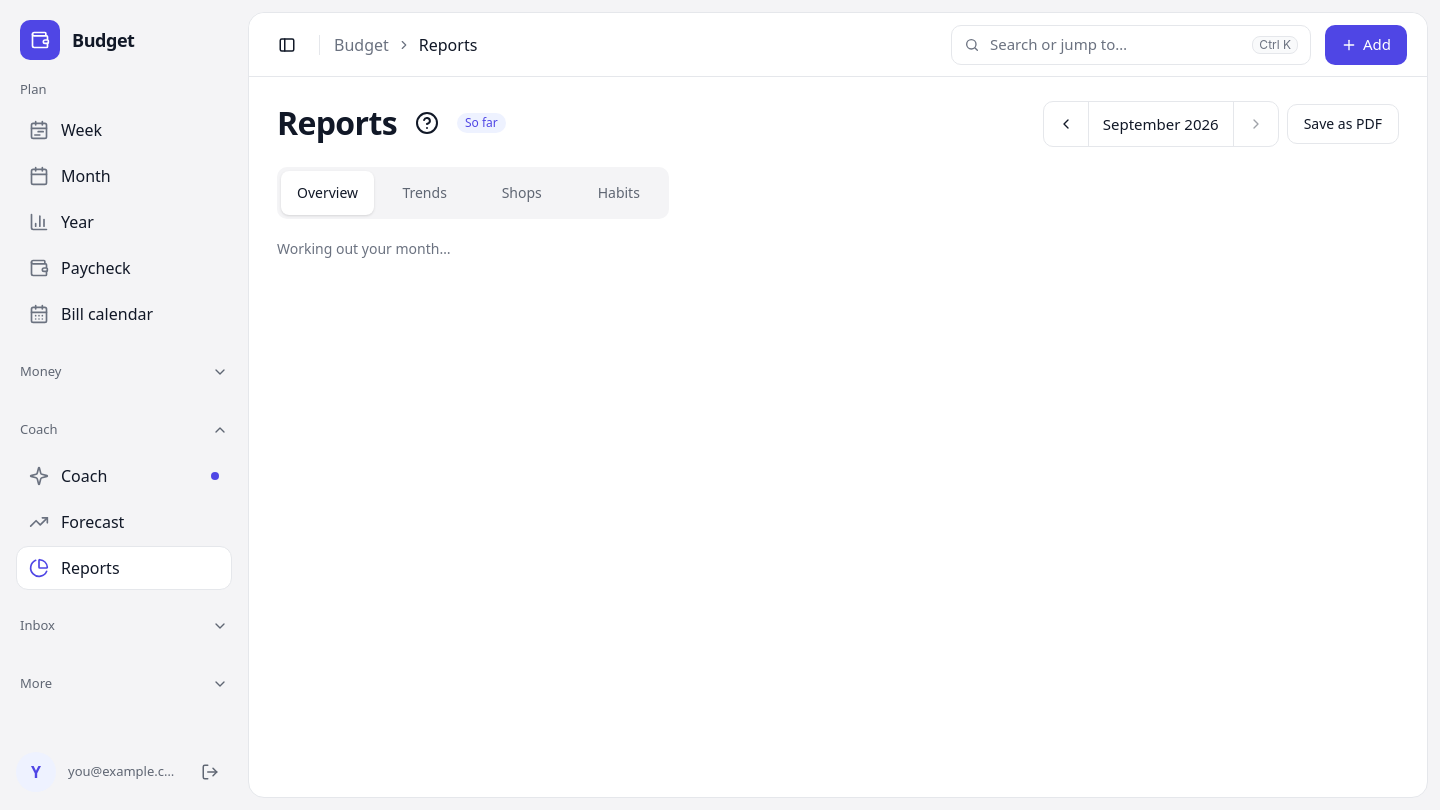
Test case: Reports, Shops: worth a second look › points out each flagged charge, and hides none
Step 1. Click the tab "Shops" → (522, 193), box [475,171,568,215]
(page scrolled)
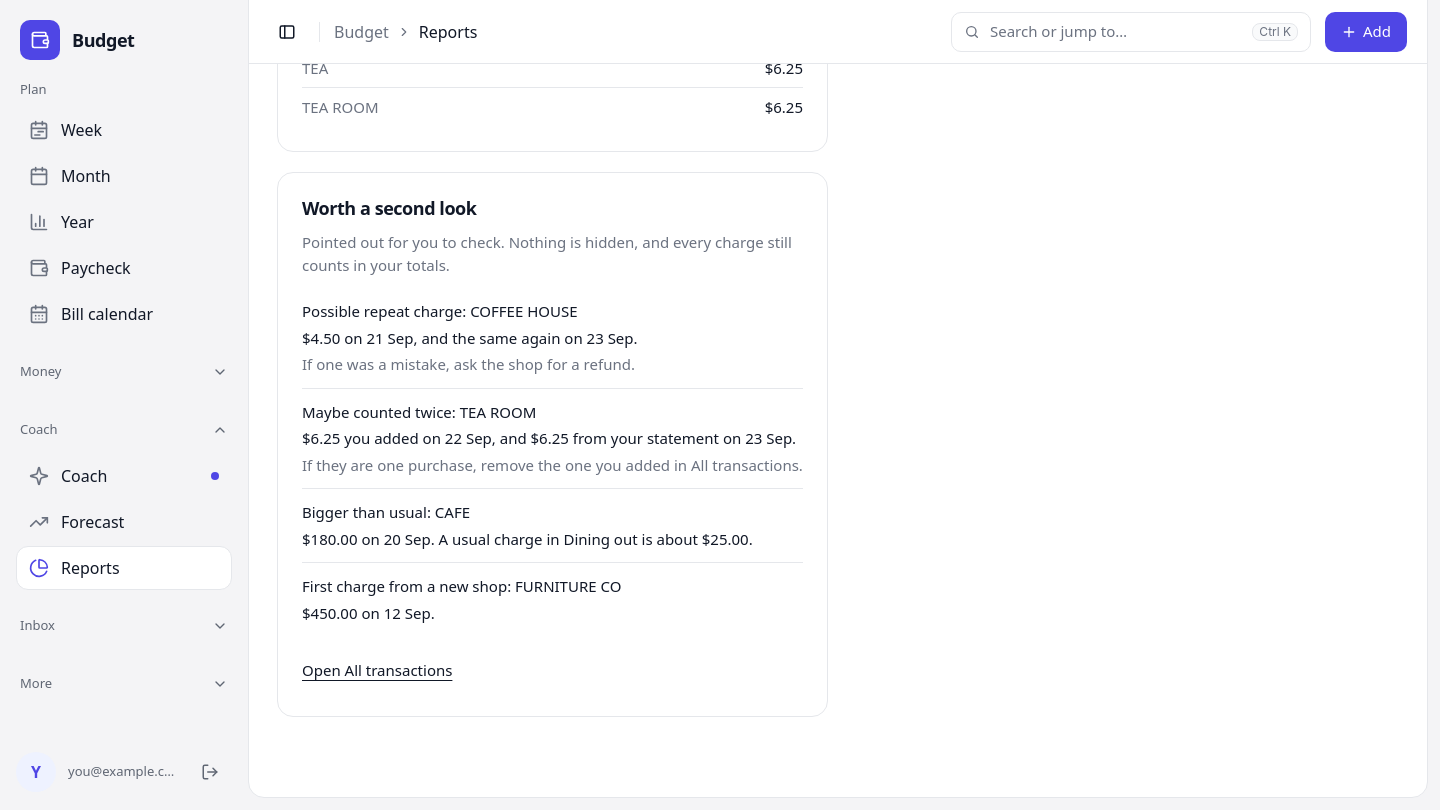
Expected: the list items read "Possible repeat charge: COFFEE HOUSE$4.50 on 21 Sep, and the same again on 23 Sep.If one was a mistake, ask the shop for a refund.", "Maybe counted twice: TEA ROOM$6.25 you added on 22 Sep, and $6.25 from your statement on 23 Sep.If they are one purchase, remove the one you added in All transa", "Bigger than usual: CAFE$180.00 on 20 Sep. A usual charge in Dining out is about $25.00.", "First charge from a new shop: FURNITURE CO$450.00 on 12 Sep.", in this order, [302,288,803,388]; [302,388,803,489]; [302,489,803,563]; [302,576,621,622]
